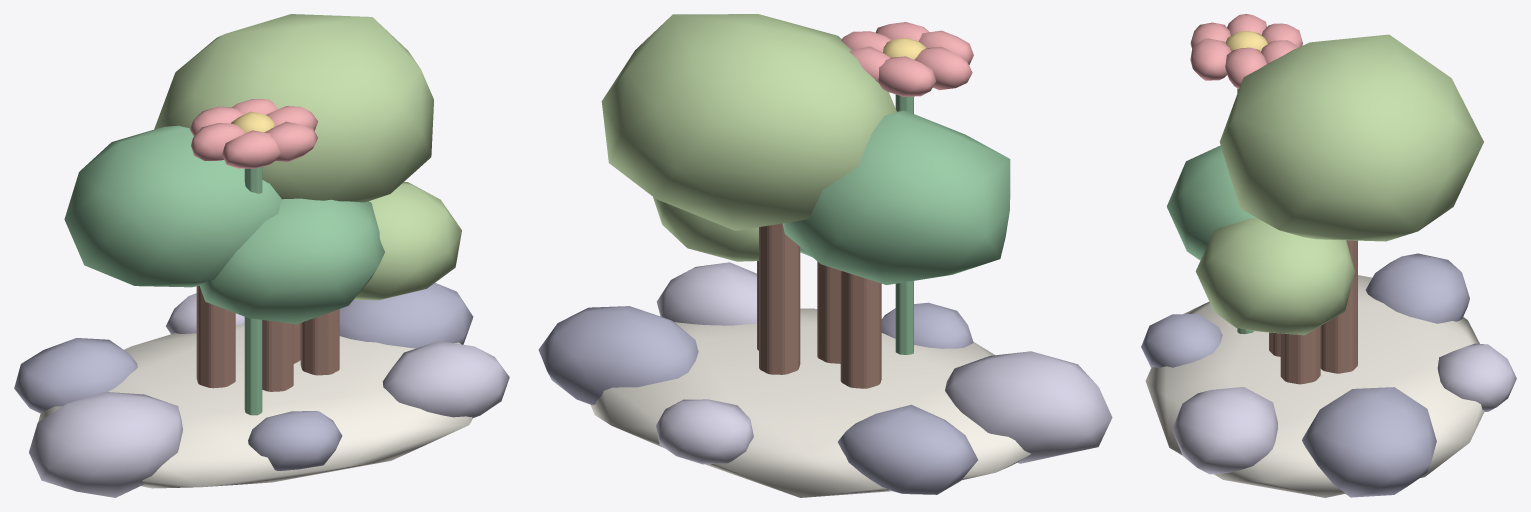
Rendered from lagoon_meadow_shrub.glb.
3 renders of one model, left to right at view 1: azimuth 30°, elevation 25°; view 2: azimuth 150°, elevation 25°; view 3: azimuth 270°, elevation 25°, orthographic. The views are drawn at different scales.
Visible parts, largest first — view 1: lagoon_meadow_shrub.001; view 2: lagoon_meadow_shrub.001; view 3: lagoon_meadow_shrub.001.
Boxes of the visible parts, x1=… form: lagoon_meadow_shrub.001: x1=14, y1=14, x2=509, y2=497; lagoon_meadow_shrub.001: x1=538, y1=14, x2=1112, y2=497; lagoon_meadow_shrub.001: x1=1141, y1=14, x2=1516, y2=497.
Bounding box in the file's own units: 2.93 × 2.3 × 2.
